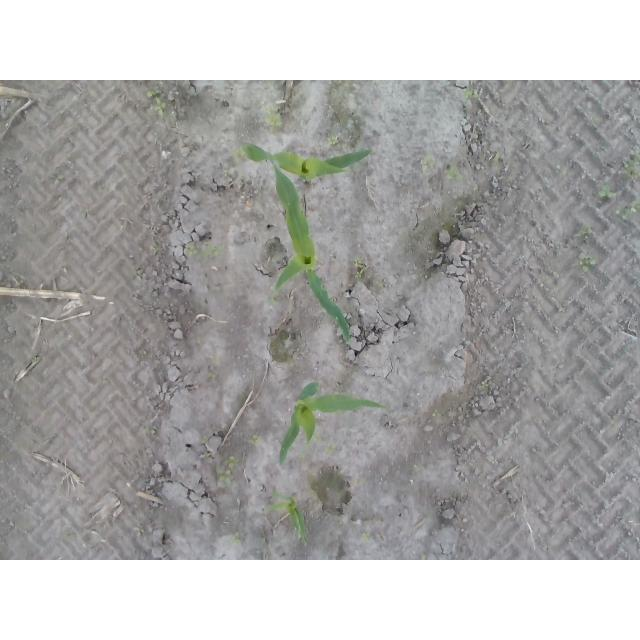Maize: (264, 155, 350, 341), (278, 382, 388, 463), (241, 143, 373, 186), (268, 485, 308, 540)
Weeds: (215, 457, 238, 487), (183, 242, 225, 258), (621, 144, 639, 181), (146, 89, 166, 119), (261, 104, 283, 127), (616, 198, 640, 219), (578, 255, 599, 274), (597, 185, 618, 200), (353, 258, 366, 281), (229, 531, 243, 547), (577, 226, 592, 240), (446, 168, 462, 181), (323, 444, 337, 456), (248, 435, 262, 446), (463, 87, 475, 97), (327, 135, 337, 145), (432, 409, 442, 417)
